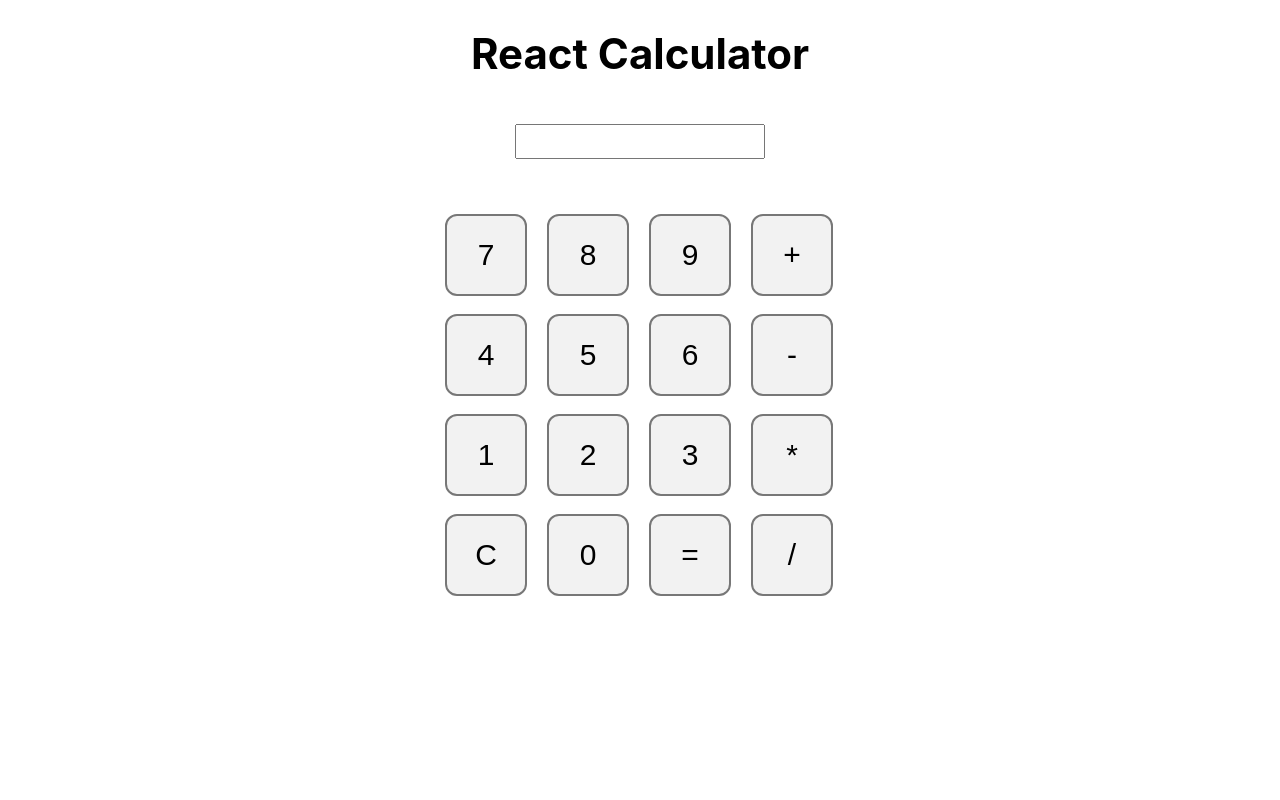
Test case: React Calculator Tests › Calculation Accuracy › correctly calculates 8 / 2
Click the button "8" at {"x": 588, "y": 255}, box [547, 214, 629, 296]
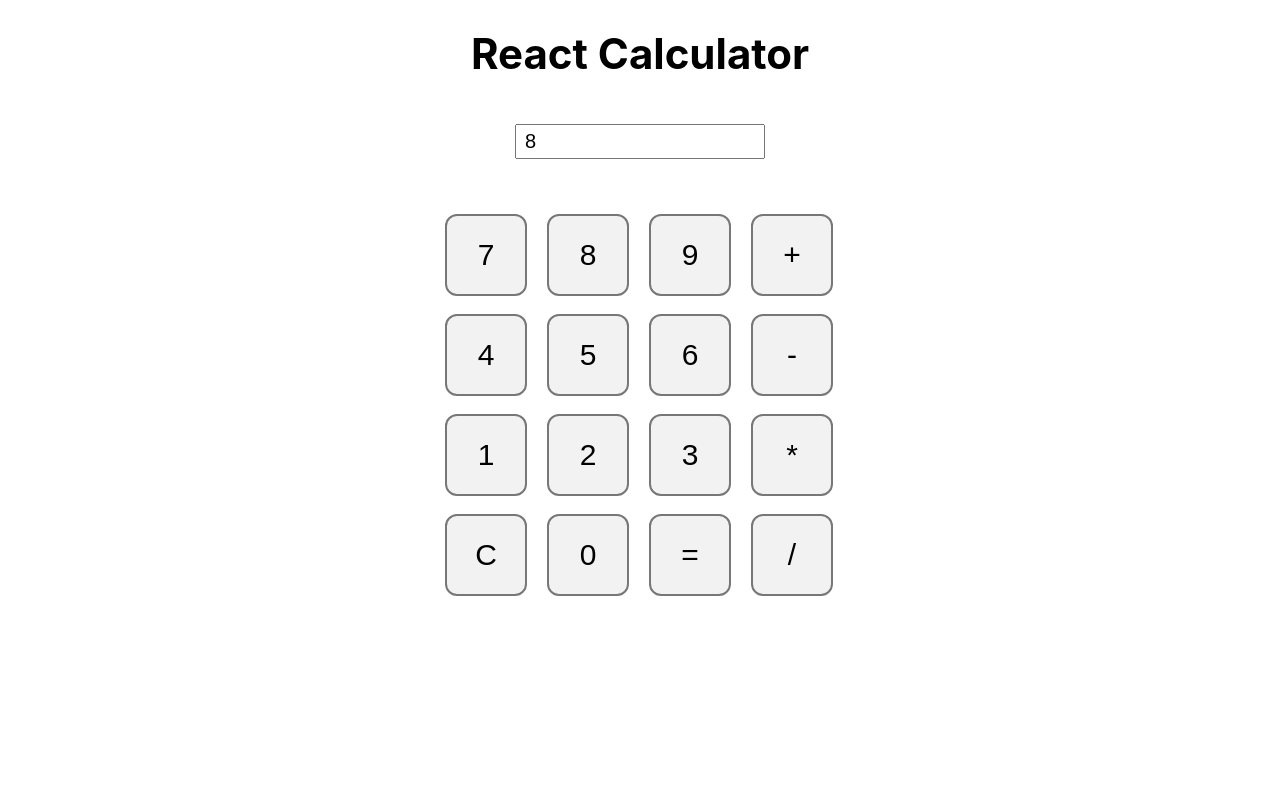
Click the button "/" at {"x": 792, "y": 555}, box [751, 514, 833, 596]
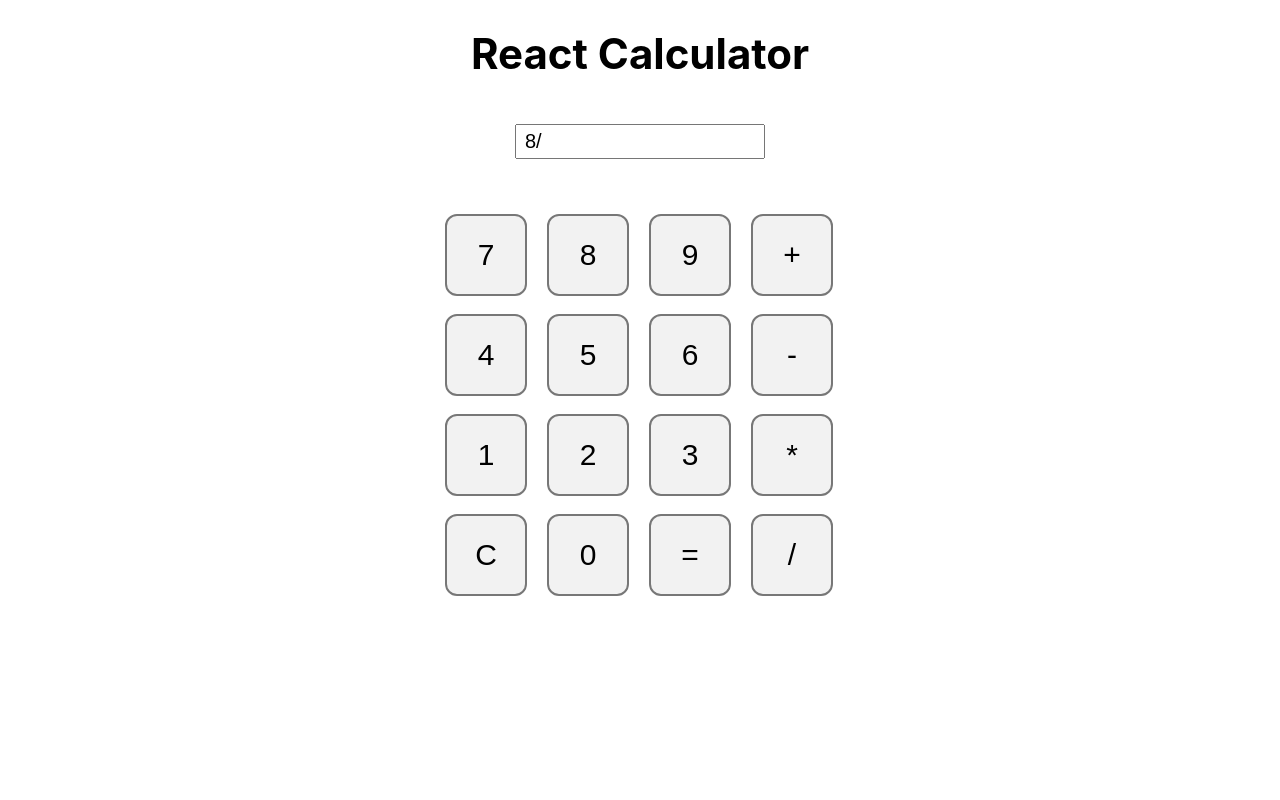
Click the button "2" at {"x": 588, "y": 455}, box [547, 414, 629, 496]
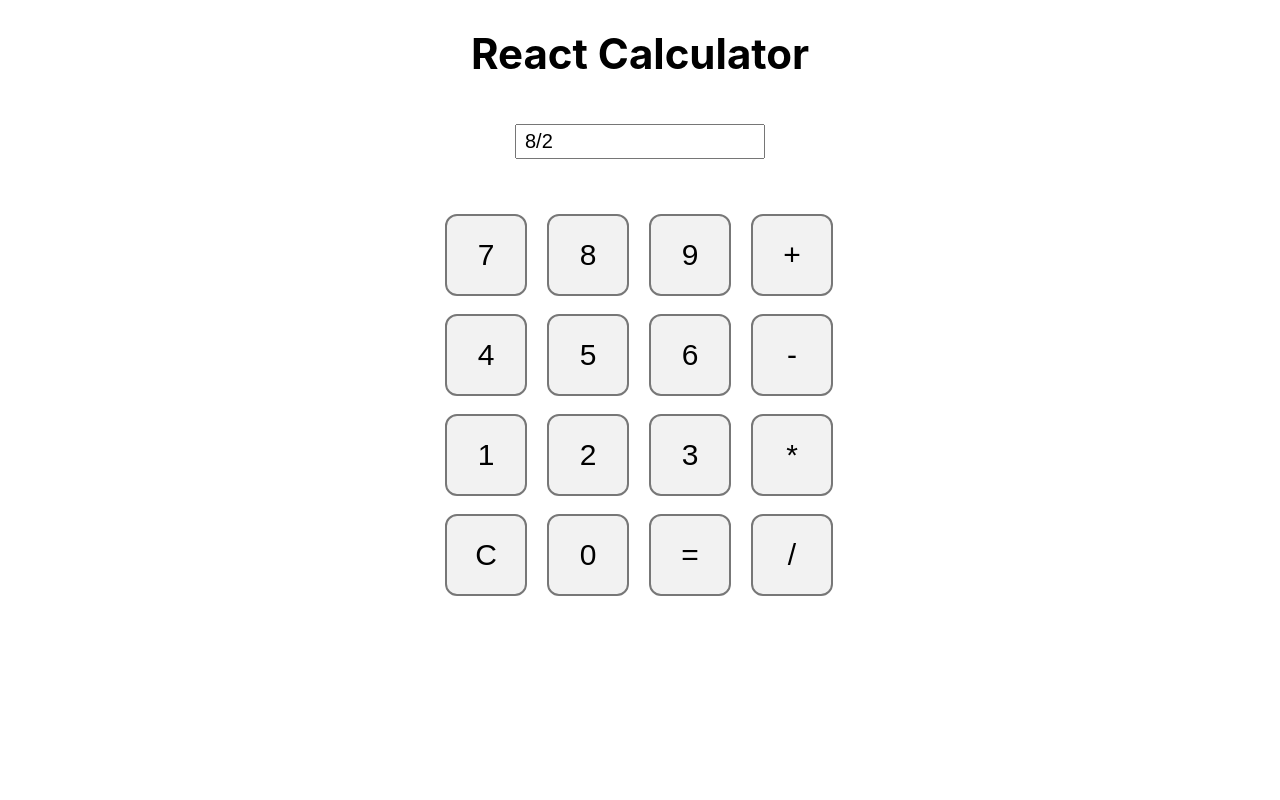
Click the button "=" at {"x": 690, "y": 555}, box [649, 514, 731, 596]
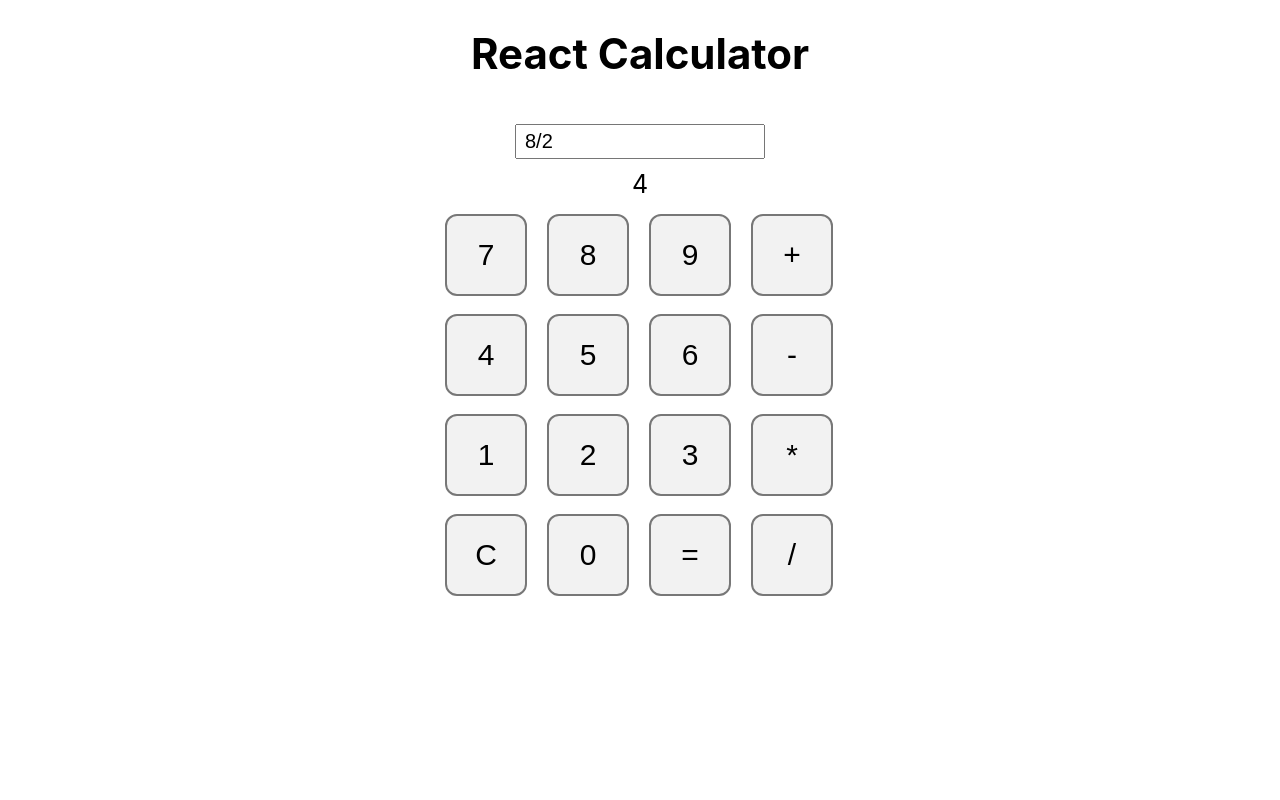
Expected: the text "4" is shown, [632, 169, 648, 199]
